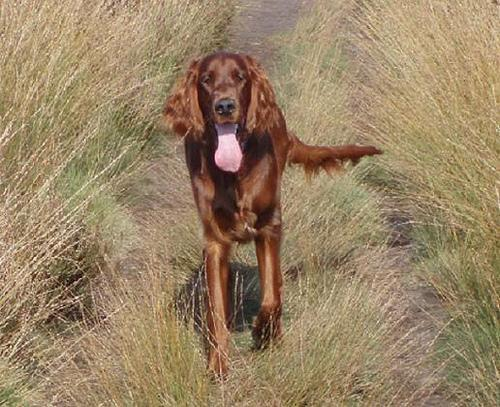Irish_setter: (159, 48, 383, 382)
